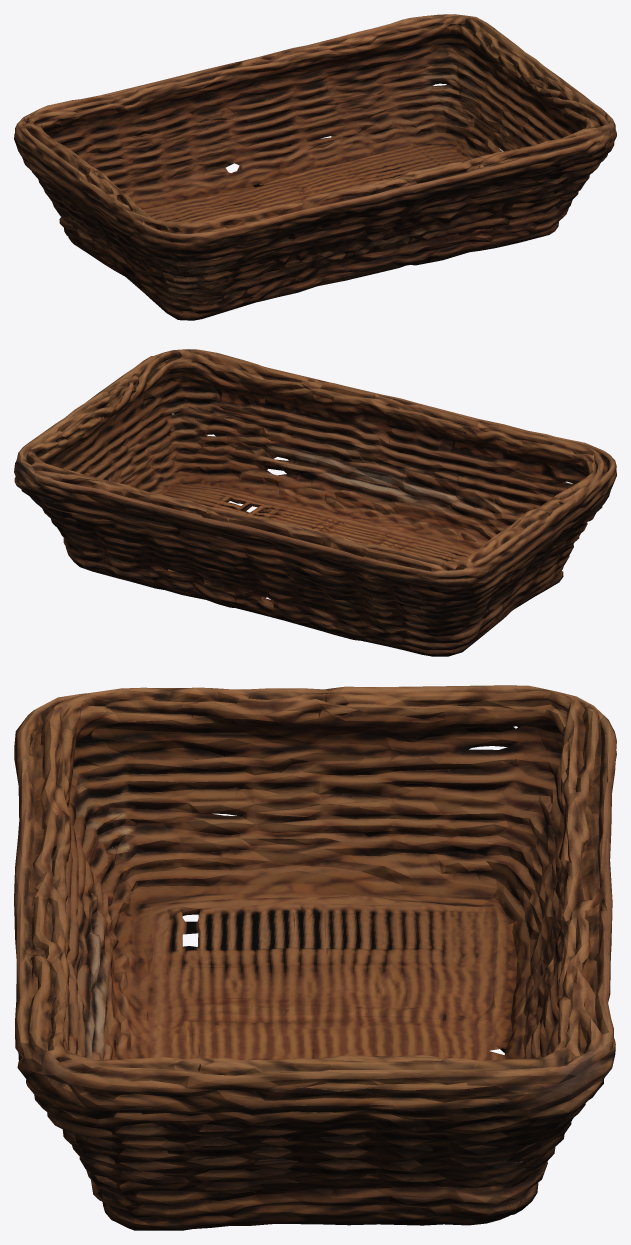
File: kuang.glb
3 renders of one model, top to bottom at view 1: azimuth 30°, elevation 25°; view 2: azimuth 150°, elevation 25°; view 3: azimuth 270°, elevation 25°, orthographic. The views are drawn at different scales.
Visible parts, largest first — view 1: world; view 2: world; view 3: world.
Boxes of the visible parts, x1,y1,x2,y2 form: world: [14, 14, 616, 320]; world: [14, 349, 616, 656]; world: [14, 685, 616, 1230].
Size of the model in its own units: 1 by 0.2366 by 0.6473.
Materials: 1 (1 with a texture image).
